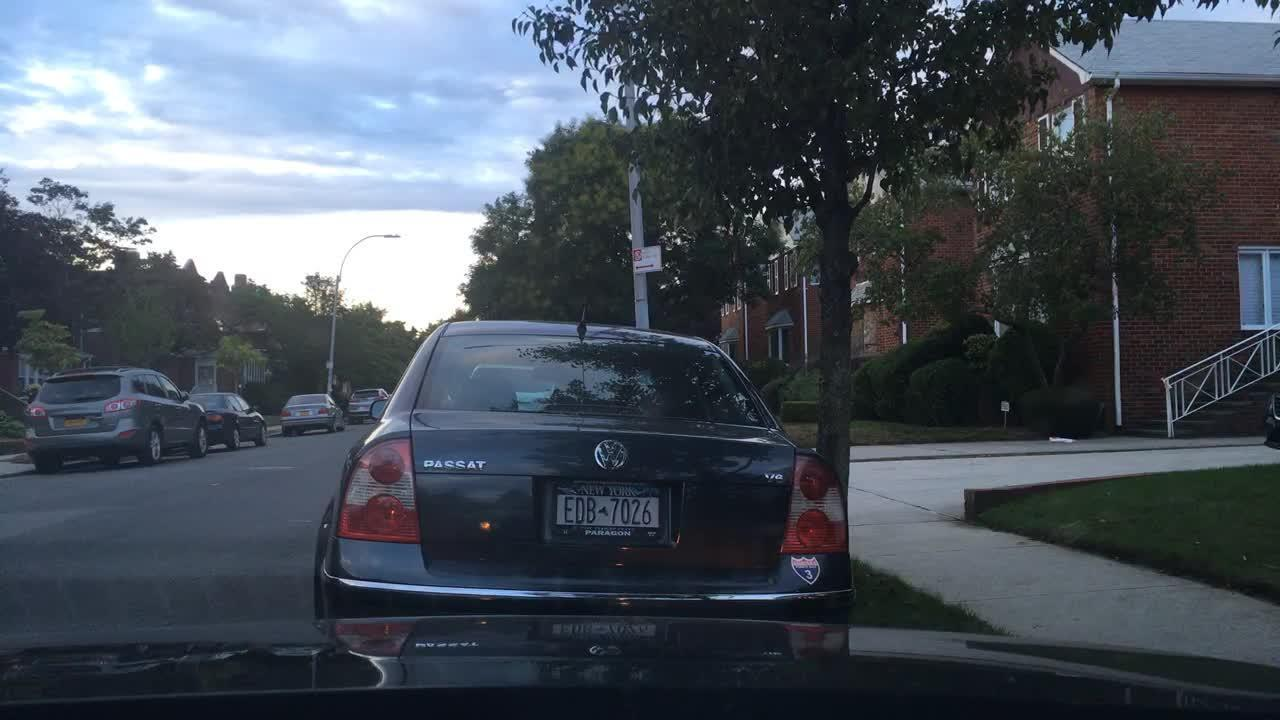Volkswagen: (589, 434, 632, 472)
